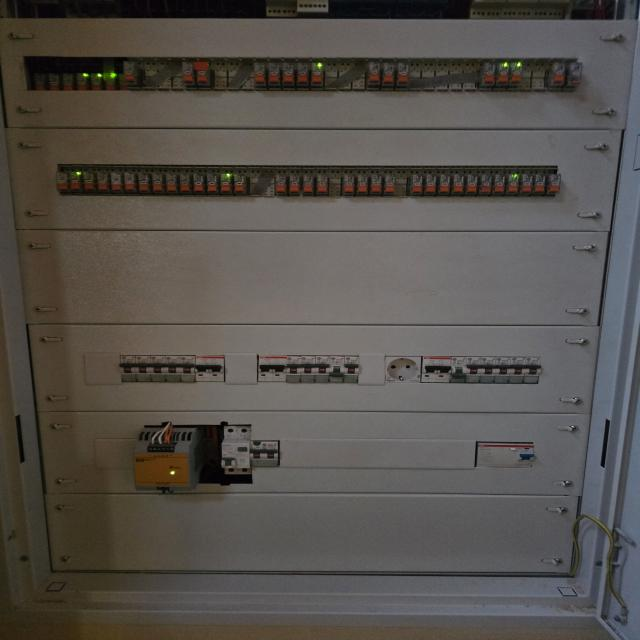FI: (475, 442, 533, 468)
FI_Sicherungskombi: (221, 426, 252, 475)
Leitungsschutzschalter: (420, 357, 438, 383), (508, 357, 526, 383), (449, 357, 466, 384), (180, 355, 196, 383), (494, 357, 511, 383), (209, 355, 225, 382), (480, 357, 496, 384), (150, 355, 165, 383), (286, 355, 301, 383), (315, 356, 331, 382), (436, 357, 452, 383), (524, 357, 540, 383), (121, 355, 136, 382), (165, 355, 180, 382), (195, 355, 210, 382), (258, 355, 273, 382), (301, 355, 316, 382), (344, 356, 359, 383), (466, 357, 481, 384), (136, 356, 151, 382), (272, 355, 287, 381), (330, 356, 344, 382), (250, 441, 264, 467), (265, 441, 279, 467)
Relais: (548, 62, 565, 87), (479, 62, 495, 88), (380, 63, 395, 90), (281, 62, 295, 89), (495, 61, 509, 88), (567, 61, 582, 86), (367, 62, 380, 90), (546, 173, 561, 196), (396, 63, 409, 89), (408, 174, 423, 196), (124, 172, 138, 194), (192, 173, 206, 195), (220, 172, 233, 195), (510, 62, 522, 86), (84, 170, 97, 192), (97, 171, 110, 193), (138, 172, 151, 194), (179, 173, 192, 195), (316, 174, 329, 196), (369, 174, 382, 196), (342, 174, 355, 196), (423, 174, 436, 196), (451, 173, 464, 195), (506, 173, 519, 195), (438, 173, 450, 196), (166, 174, 179, 195), (234, 174, 247, 195), (478, 174, 491, 195), (519, 174, 532, 195), (297, 64, 308, 88), (207, 173, 219, 195), (383, 174, 395, 196), (196, 62, 208, 83), (57, 171, 69, 192), (70, 171, 82, 192), (111, 171, 123, 192), (152, 173, 164, 194), (356, 174, 368, 195), (533, 174, 545, 195), (289, 173, 300, 195), (303, 174, 314, 196), (182, 62, 194, 82), (493, 174, 505, 194), (34, 73, 47, 91), (311, 63, 322, 84), (105, 72, 117, 91), (124, 62, 135, 82), (255, 63, 266, 83), (466, 174, 477, 194), (48, 73, 60, 91), (276, 174, 286, 195), (62, 73, 74, 90), (77, 73, 89, 90), (269, 64, 280, 82), (91, 73, 102, 90)
